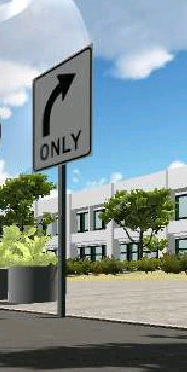arrow_right: (39, 71, 77, 136)
